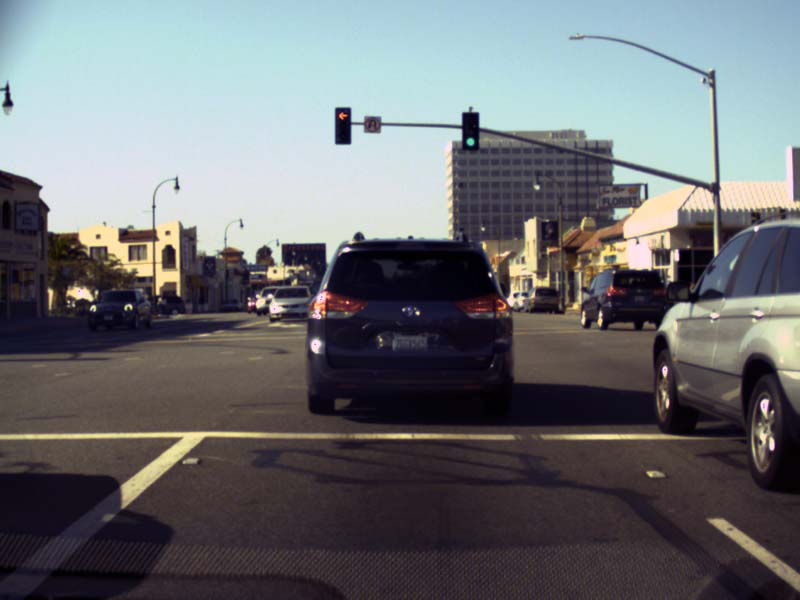Green: (462, 113, 478, 149)
Red: (336, 108, 350, 143)
